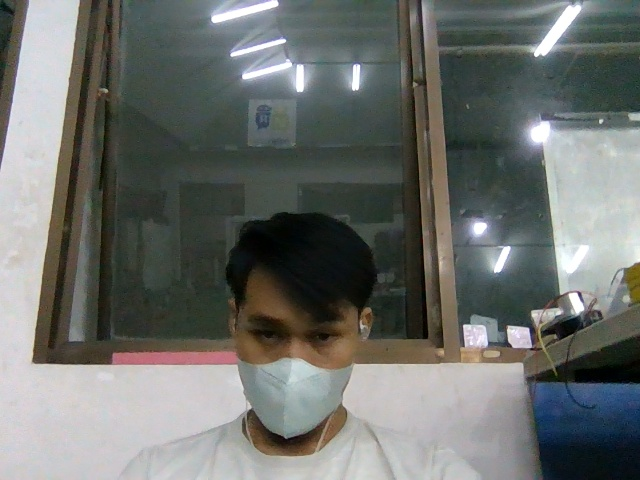mask_on: (236, 358, 354, 440)
